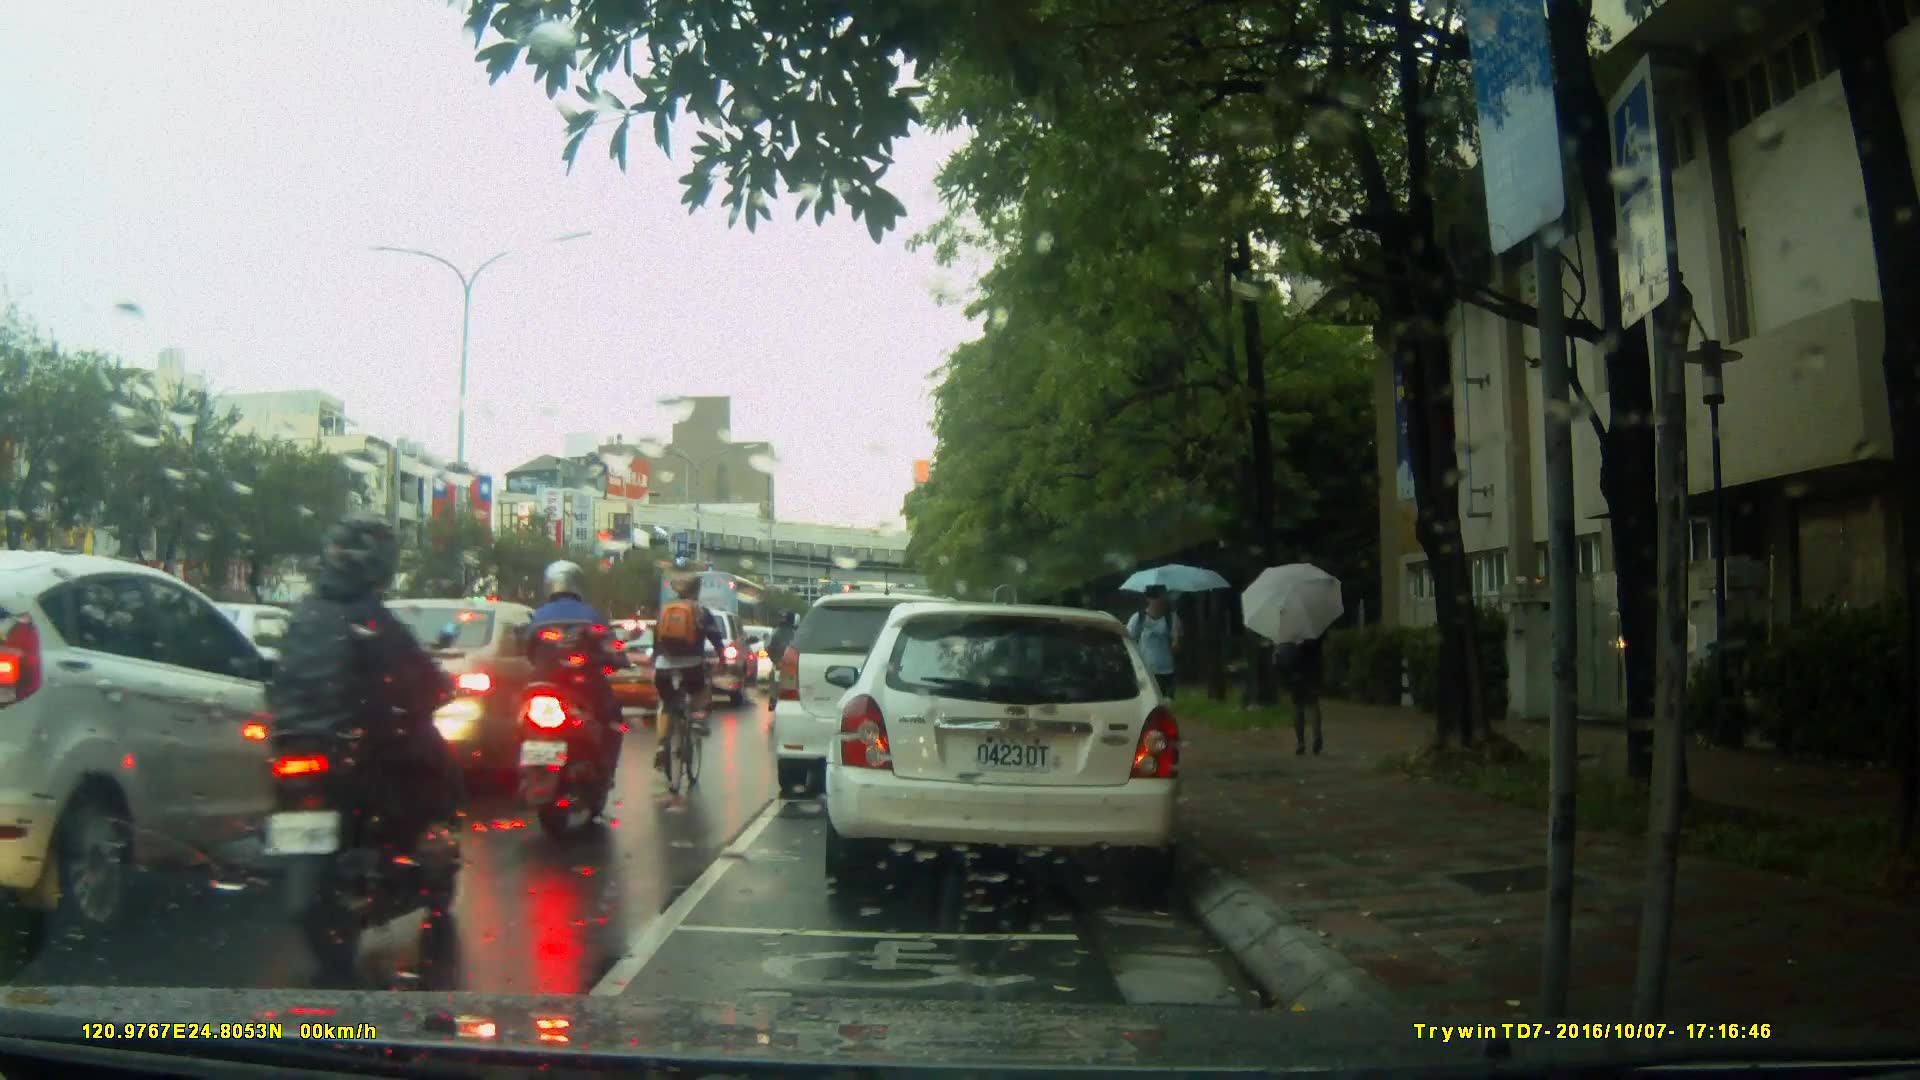pedestrian: (1138, 567, 1197, 787), (1274, 582, 1324, 758)
rider: (262, 510, 462, 970), (518, 562, 637, 839), (652, 574, 738, 800), (773, 610, 808, 712)
vehicle: (1, 551, 343, 937), (835, 594, 1194, 898), (274, 597, 615, 788), (776, 590, 1026, 784), (563, 620, 705, 723), (661, 568, 777, 673)
